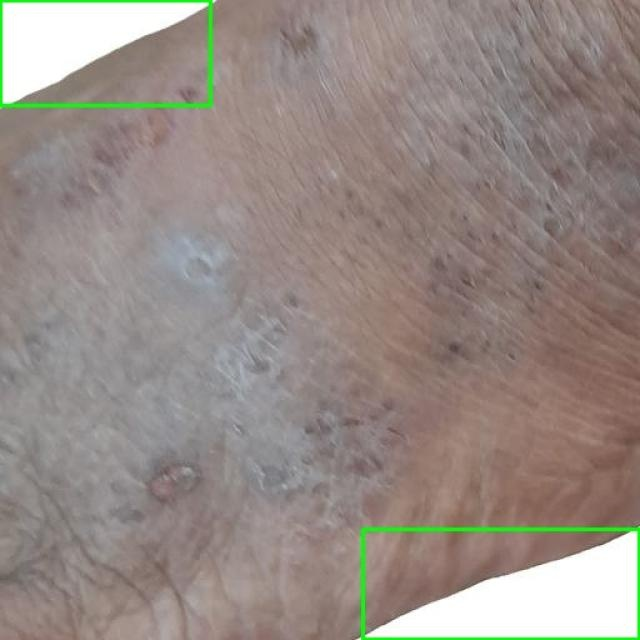Contact Dermatitis: (362, 529, 639, 639), (0, 0, 210, 105)
